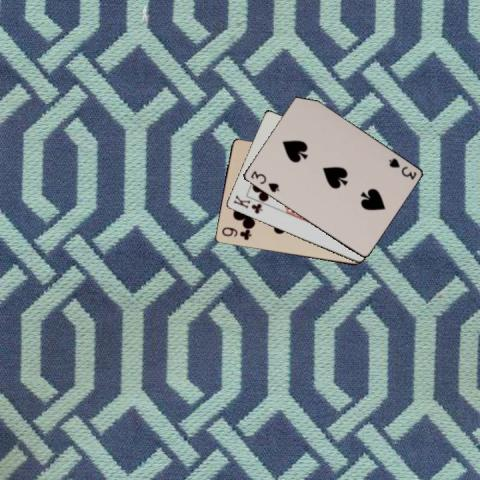3s: (385, 155, 418, 182), (247, 168, 280, 194)
9c: (218, 226, 252, 242)
Kc: (230, 192, 263, 215)
